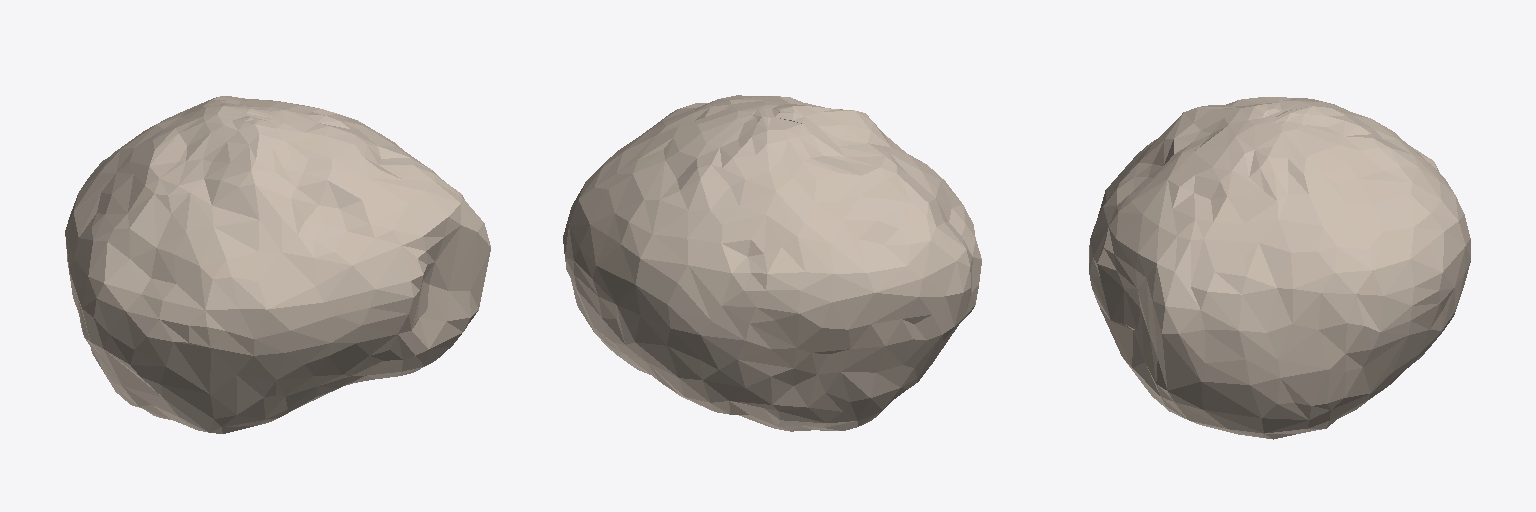
Rendered from phobos_t.obj.
3 renders of one model, left to right at view 1: azimuth 30°, elevation 25°; view 2: azimuth 150°, elevation 25°; view 3: azimuth 270°, elevation 25°, orthographic.
Parts seen in each view (by area): view 1: phobos; view 2: phobos; view 3: phobos.
Boxes of the visible parts, box(x1,y1,x2,y2) form: phobos: box(65, 96, 490, 433); phobos: box(563, 95, 981, 431); phobos: box(1089, 97, 1470, 439).
Size of the model in its own units: 260 by 194 by 233.